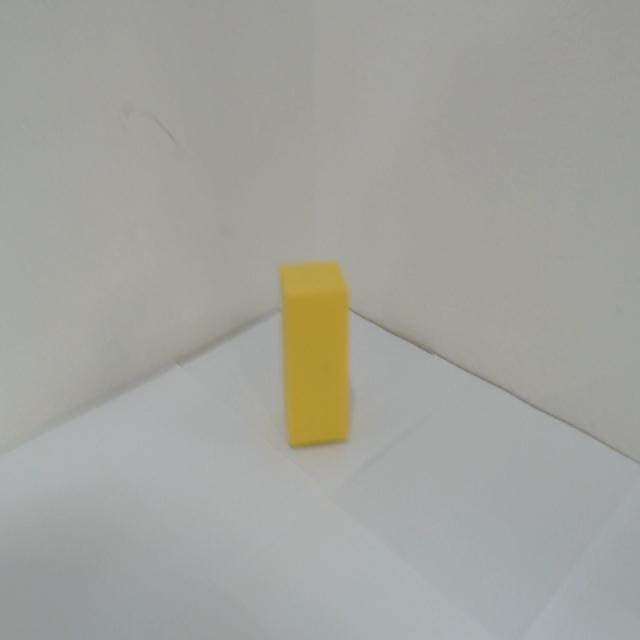cube: (272, 254, 370, 466)
